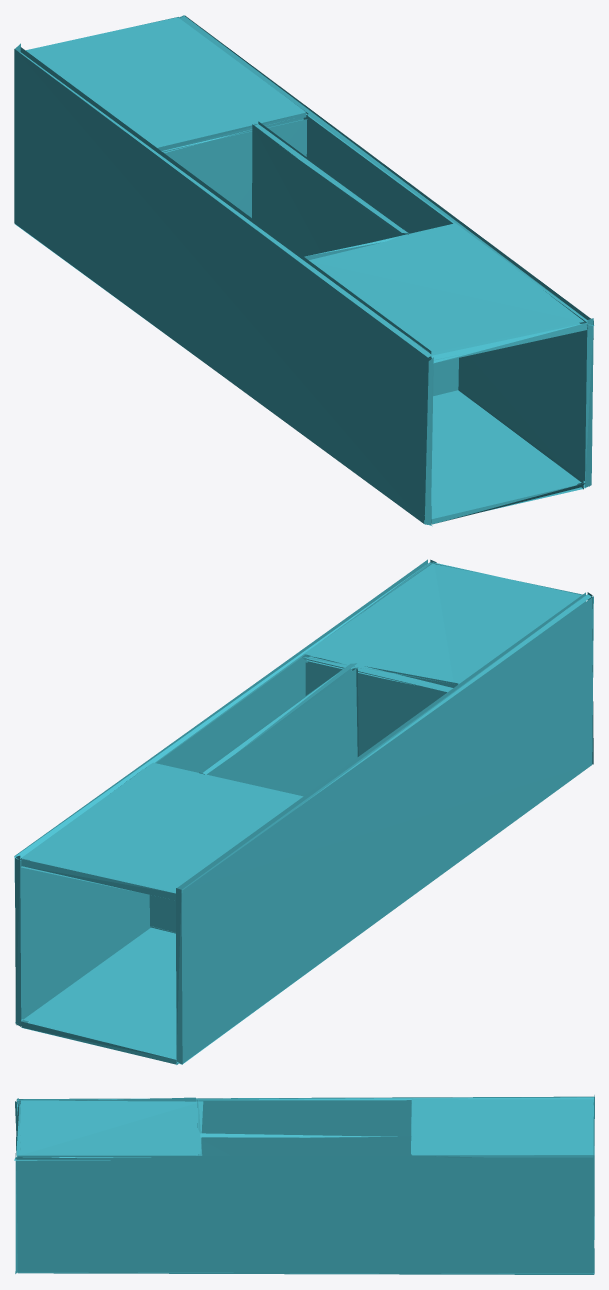
The picture shows the model from 3 angles, top to bottom: view 1: azimuth 30°, elevation 25°; view 2: azimuth 150°, elevation 25°; view 3: azimuth 270°, elevation 25°; orthographic projection. The views are drawn at different scales.
Parts seen in each view (by area): view 1: Renderer Node; view 2: Renderer Node; view 3: Renderer Node.
Boxes of the visible parts, x1,y1,x2,y2 form: Renderer Node: [14, 15, 594, 526]; Renderer Node: [14, 559, 593, 1064]; Renderer Node: [14, 1095, 594, 1274].
Bounding box in the file's own units: 0.226 × 0.2303 × 0.9518.
Materials: 1 (1 with a texture image).
